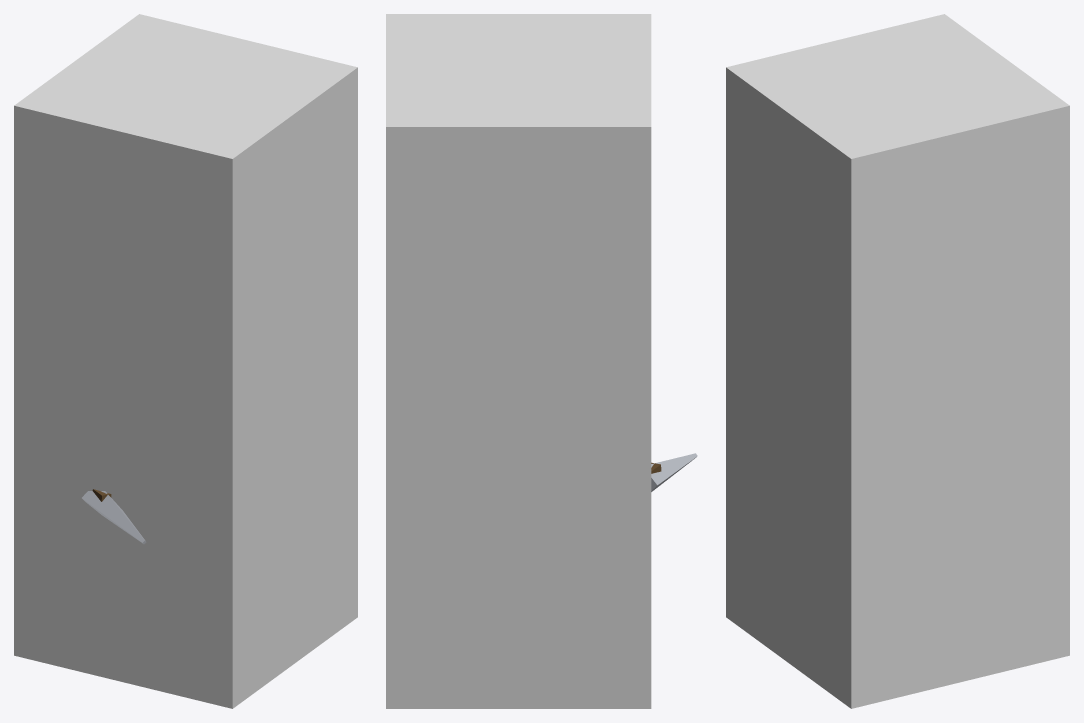
File: plains_field_bandit.fbx
3 renders of one model, left to right at view 1: azimuth 30°, elevation 25°; view 2: azimuth 150°, elevation 25°; view 3: azimuth 270°, elevation 25°, orthographic. The views are drawn at different scales.
Visible parts, largest first — view 1: Root__0.00_2.75_0.01__2.27_5.50_2.29, ArmR__Torso__0.85_3.69_0.00; view 2: Root__0.00_2.75_0.01__2.27_5.50_2.29, ArmR__Torso__0.85_3.69_0.00; view 3: Root__0.00_2.75_0.01__2.27_5.50_2.29.
Boxes of the visible parts, box(x1,y1,x2,y2) form: Root__0.00_2.75_0.01__2.27_5.50_2.29: box(14, 14, 357, 708); ArmR__Torso__0.85_3.69_0.00: box(82, 489, 146, 544); Root__0.00_2.75_0.01__2.27_5.50_2.29: box(386, 14, 651, 708); ArmR__Torso__0.85_3.69_0.00: box(651, 453, 697, 491); Root__0.00_2.75_0.01__2.27_5.50_2.29: box(726, 14, 1069, 708).
Bounding box in the file's own units: 87.11 × 155 × 87.29.
Materials: 1 (1 with a texture image).
